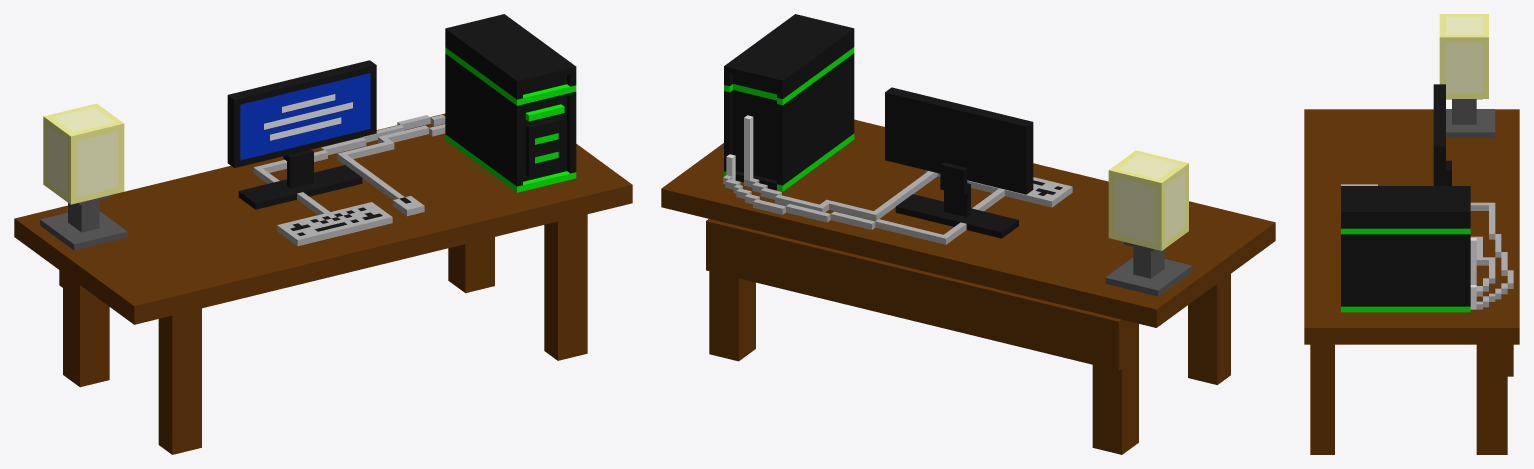
Rendered from table.obj.
The picture shows the model from 3 angles, left to right: view 1: azimuth 30°, elevation 25°; view 2: azimuth 150°, elevation 25°; view 3: azimuth 270°, elevation 25°; orthographic projection. The views are drawn at different scales.
Bounding box in the file's own units: 84 × 44 × 35.
1 material, 1 textured.
